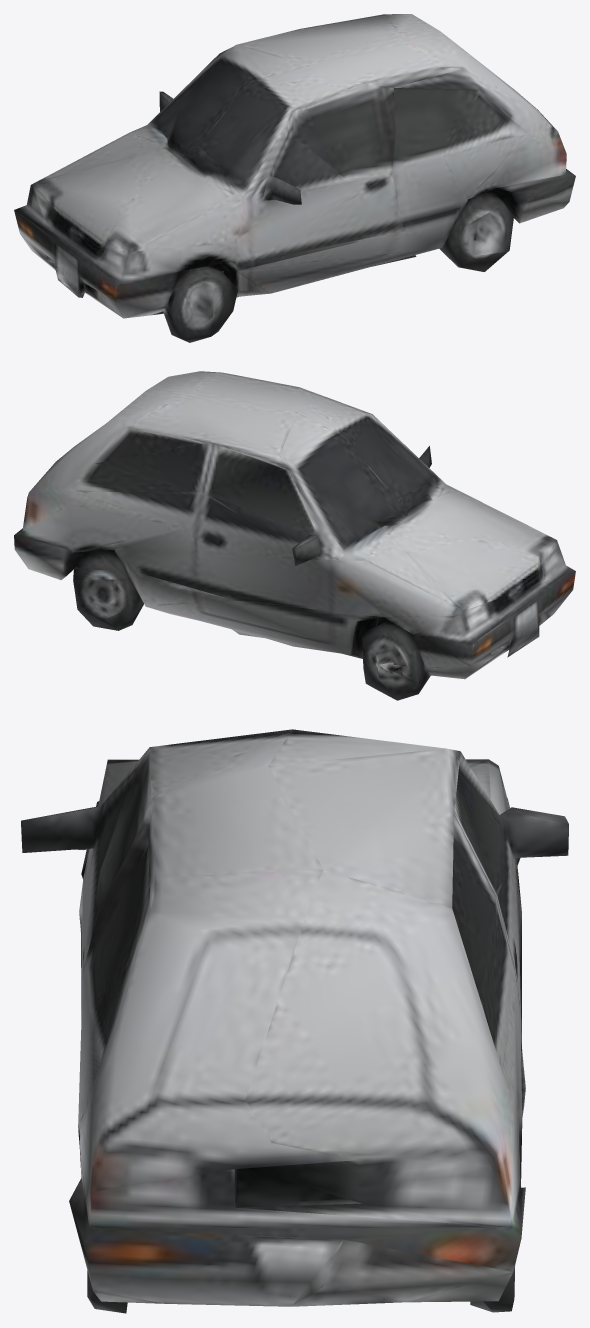
Rendered from prop-parked-sedan.glb.
3 views of the same model, one above another, from view 1: azimuth 30°, elevation 25°; view 2: azimuth 150°, elevation 25°; view 3: azimuth 270°, elevation 25° (orthographic). The views are drawn at different scales.
Size of the model in its own units: 2 by 0.8657 by 1.04.
Materials: 1 (1 with a texture image).
